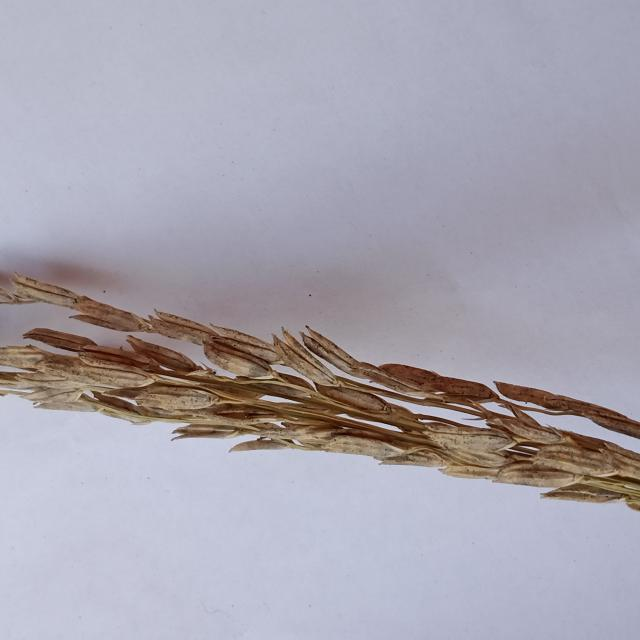Neck_Blast: (0, 270, 640, 515)
